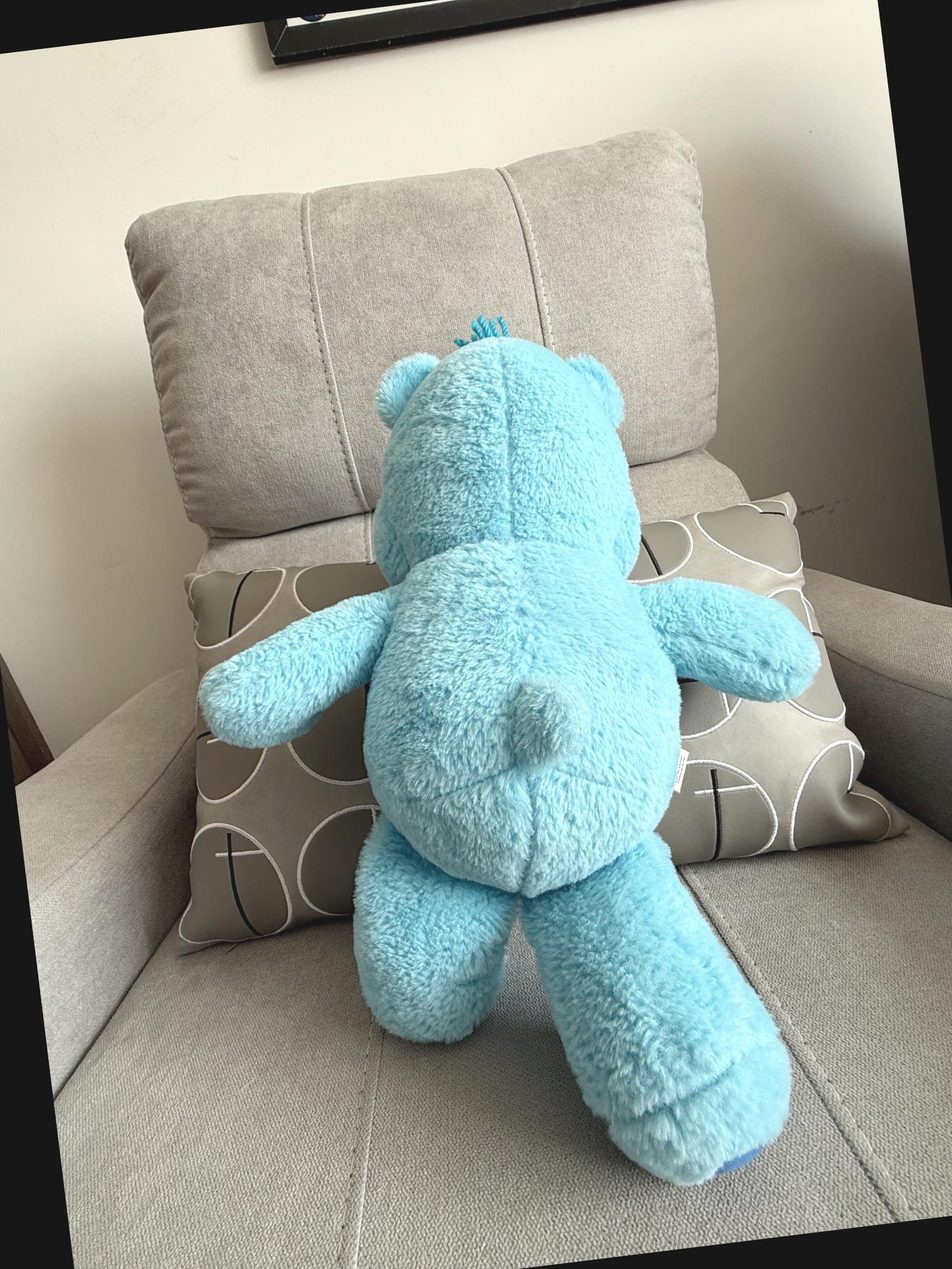peluche_Juan Jose: (156, 278, 879, 1236)
